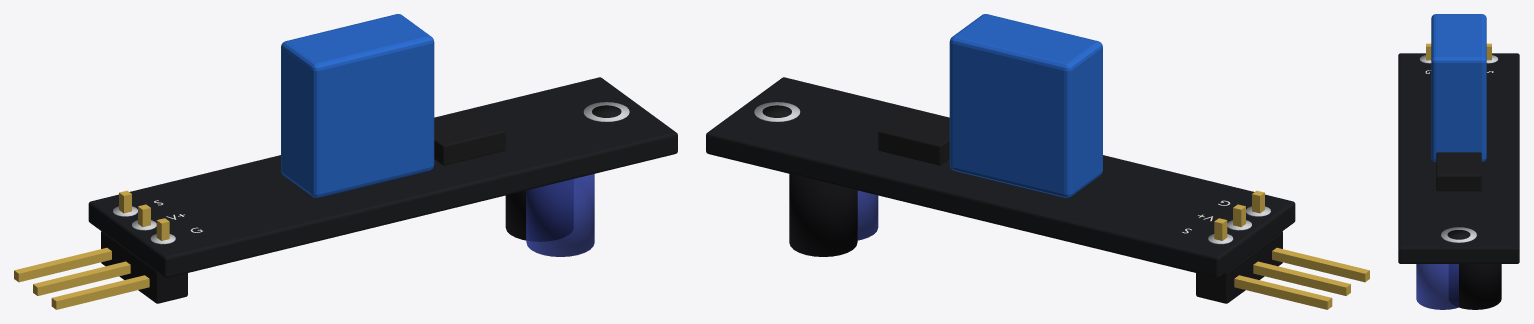
File: tracking-sensor.glb
3 views of the same model, side by side, from view 1: azimuth 30°, elevation 25°; view 2: azimuth 150°, elevation 25°; view 3: azimuth 270°, elevation 25° (orthographic). The views are drawn at different scales.
Visible parts, largest first — view 1: pcb.018, part.068, part.066, part.067, part.069, header.018, pin_h.062, pin_h.061, pin_h.060, hole_ring.031; view 2: pcb.018, part.068, part.067, part.069, header.018, pin_h.060, pin_h.061, pin_h.062, part.066, hole_ring.031; view 3: pcb.018, part.068, part.067, part.066, part.069, hole_ring.031, hole.031, pin_v.060, pin_v.062.
Boxes of the visible parts, <box> form: pcb.018: <box>88,77,677,277</box>; part.068: <box>281,14,434,197</box>; part.066: <box>526,174,594,256</box>; part.067: <box>505,179,572,241</box>; part.069: <box>434,110,505,165</box>; header.018: <box>101,231,187,303</box>; pin_h.062: <box>51,275,149,309</box>; pin_h.061: <box>33,261,130,295</box>; pin_h.060: <box>14,247,111,282</box>; hole_ring.031: <box>583,102,629,121</box>; pcb.018: <box>706,77,1295,277</box>; part.068: <box>949,14,1102,197</box>; part.067: <box>789,174,857,256</box>; part.069: <box>878,110,949,165</box>; header.018: <box>1196,231,1282,303</box>; pin_h.060: <box>1234,275,1332,309</box>; pin_h.061: <box>1253,261,1350,295</box>; pin_h.062: <box>1272,247,1369,282</box>; part.066: <box>857,190,878,240</box>; hole_ring.031: <box>754,102,800,121</box>; pcb.018: <box>1398,53,1519,263</box>; part.068: <box>1431,14,1486,161</box>; part.067: <box>1449,264,1501,309</box>; part.066: <box>1416,264,1458,309</box>; part.069: <box>1436,152,1481,191</box>; hole_ring.031: <box>1441,227,1476,242</box>; hole.031: <box>1447,230,1470,239</box>; pin_v.060: <box>1486,43,1491,60</box>; pin_v.062: <box>1426,43,1431,60</box>.
Size of the model in its own units: 0.0471 by 0.0181 by 0.0105.
